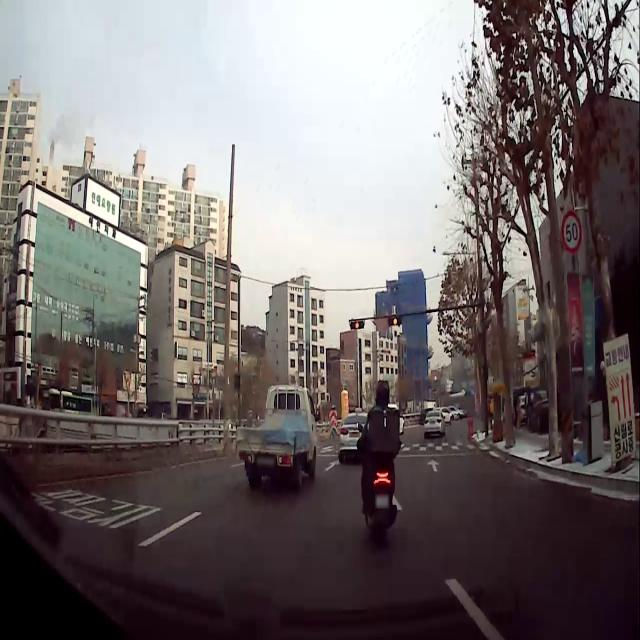Yellow Light: (354, 321, 359, 329), (393, 316, 397, 326)
